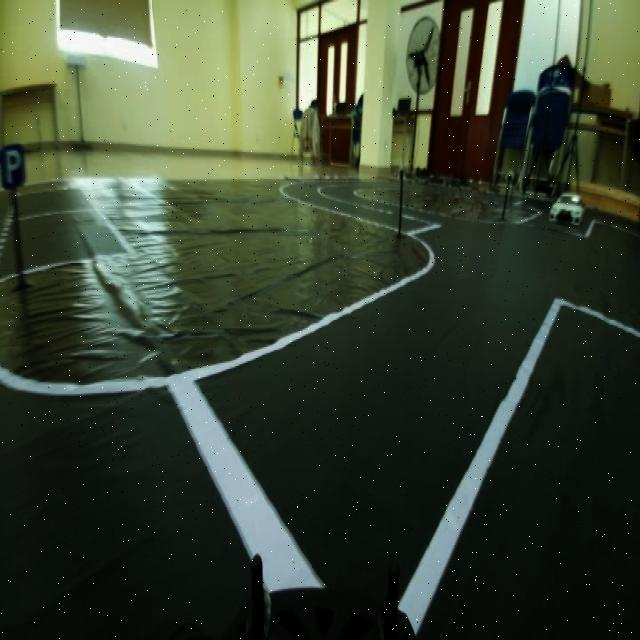parking: (0, 137, 27, 193)
